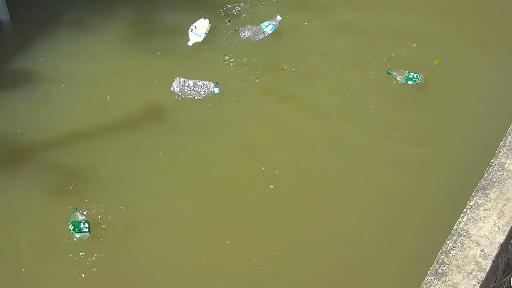leaf: (424, 48, 456, 68)
plastic: (163, 70, 230, 108), (64, 194, 107, 245), (243, 14, 300, 42), (186, 14, 230, 45), (378, 66, 433, 90)
